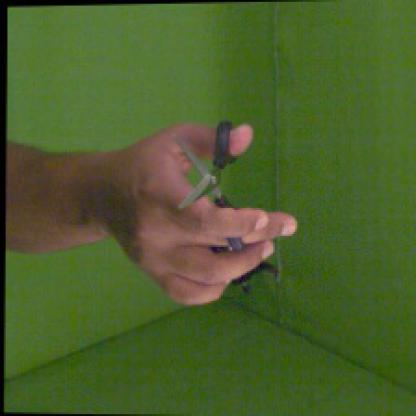Hand: (97, 120, 298, 308)
